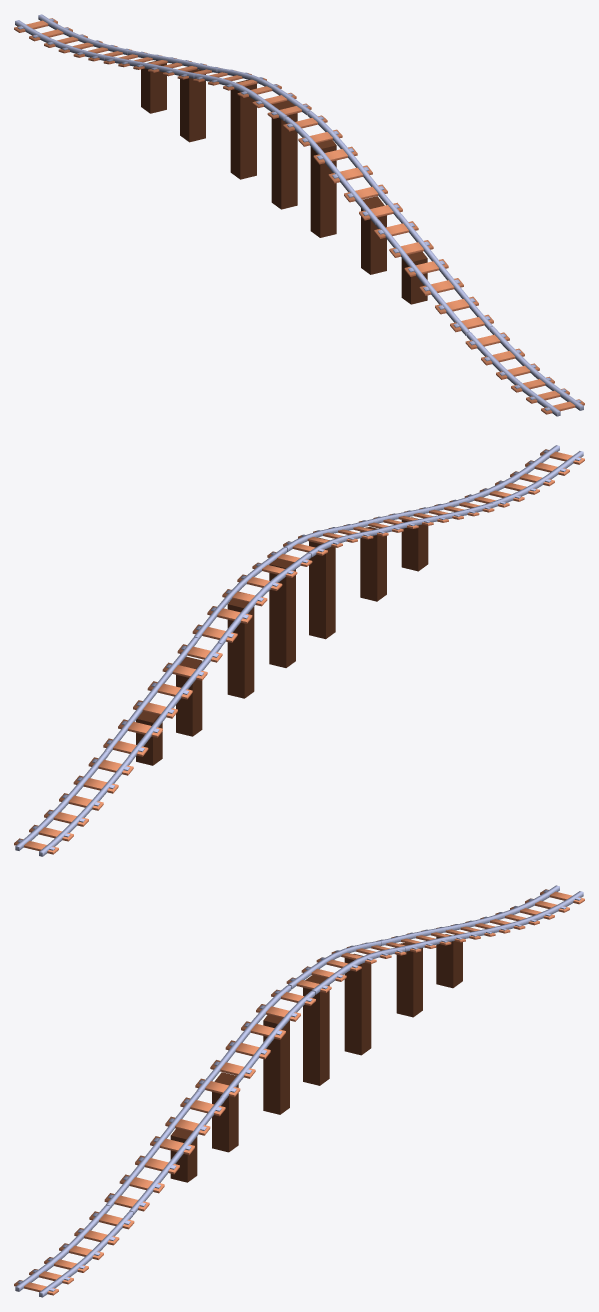
File: straight-rise.glb
The picture shows the model from 3 angles, top to bottom: view 1: azimuth 30°, elevation 25°; view 2: azimuth 150°, elevation 25°; view 3: azimuth 330°, elevation 25°; orthographic projection.
Visible parts, largest first — view 1: railroad-straight.028, railroad-straight.027, railroad-straight.026, Cube.006, Cube.005, Cube.004, railroad-straight.025, Cube.003, railroad-straight.024, Cube.002, Cube.001, Cube; view 2: railroad-straight.028, railroad-straight.024, railroad-straight.025, Cube.006, railroad-straight.026, Cube.004, Cube.005, Cube.002, railroad-straight.027, Cube.003, Cube, Cube.001; view 3: railroad-straight.028, railroad-straight.027, railroad-straight.026, Cube.006, Cube.005, Cube.004, railroad-straight.025, Cube.003, railroad-straight.024, Cube.002, Cube.001, Cube.
Part boxes in pixels (box(x1,y1,x2,y2)): railroad-straight.028: box(193, 68, 402, 224); railroad-straight.027: box(374, 214, 493, 336); railroad-straight.026: box(465, 326, 584, 416); Cube.006: box(271, 100, 297, 209); Cube.005: box(230, 80, 256, 179); Cube.004: box(310, 139, 336, 237); railroad-straight.025: box(14, 14, 131, 61); Cube.003: box(180, 69, 205, 142); railroad-straight.024: box(103, 50, 220, 79); Cube.002: box(361, 196, 386, 274); Cube.001: box(141, 60, 166, 113); Cube: box(401, 251, 427, 304); railroad-straight.028: box(192, 518, 403, 646); railroad-straight.024: box(103, 637, 222, 760); railroad-straight.025: box(14, 751, 133, 856); Cube.006: box(269, 558, 295, 667); railroad-straight.026: box(464, 445, 584, 507); Cube.004: box(309, 537, 335, 639); Cube.005: box(227, 591, 254, 698); Cube.002: box(360, 527, 386, 601); railroad-straight.027: box(373, 497, 494, 528); Cube.003: box(176, 656, 202, 736); Cube: box(401, 517, 428, 571); Cube.001: box(136, 711, 162, 765); railroad-straight.028: box(195, 941, 406, 1100); railroad-straight.027: box(104, 1091, 225, 1215); railroad-straight.026: box(14, 1205, 134, 1297); Cube.006: box(303, 975, 329, 1085); Cube.005: box(344, 953, 371, 1055); Cube.004: box(263, 1014, 289, 1114); railroad-straight.025: box(465, 885, 584, 933); Cube.003: box(396, 943, 422, 1017); railroad-straight.024: box(376, 922, 495, 952); Cube.002: box(212, 1072, 238, 1152); Cube.001: box(436, 934, 462, 988); Cube: box(170, 1128, 197, 1182).
Size of the model in its own units: 1.14 by 2.53 by 24.08.
2 materials, 1 textured.
